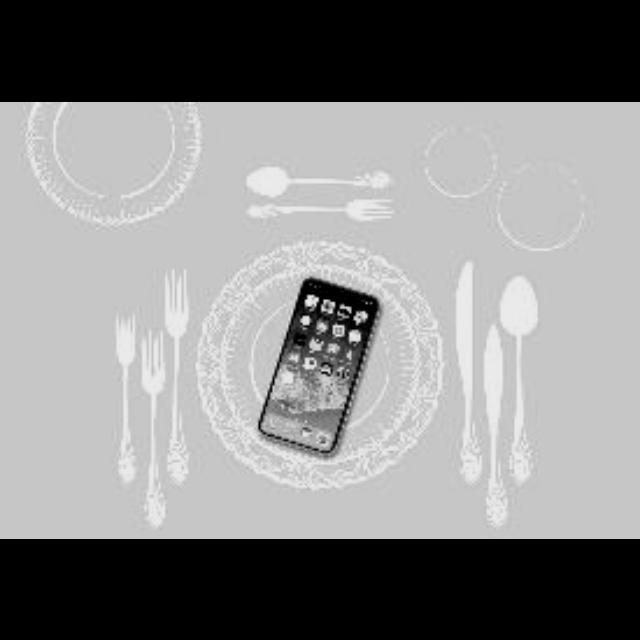fake: (250, 263, 394, 472)
